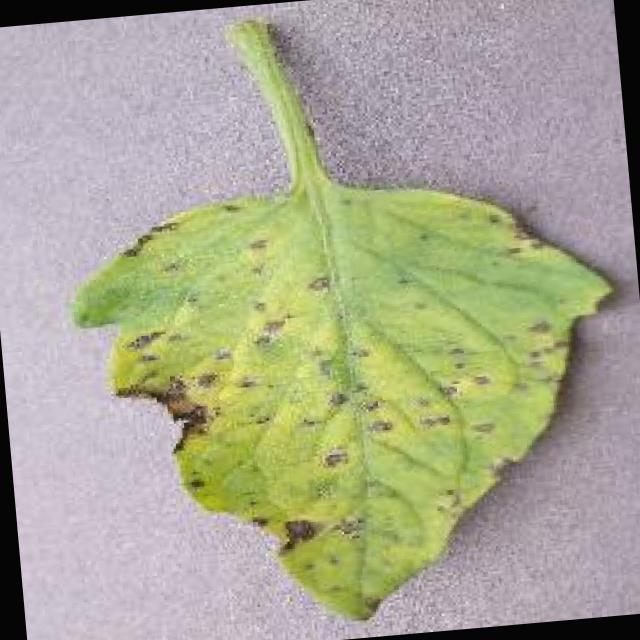leaf_spot: (75, 26, 611, 618)
